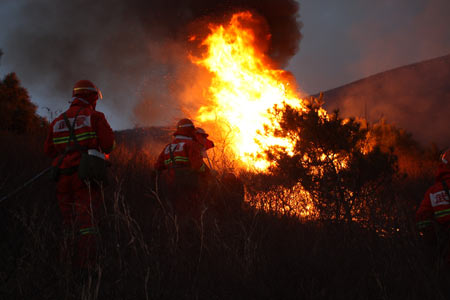fire: (161, 2, 325, 120), (218, 175, 411, 239), (283, 120, 395, 174), (208, 120, 282, 174)
